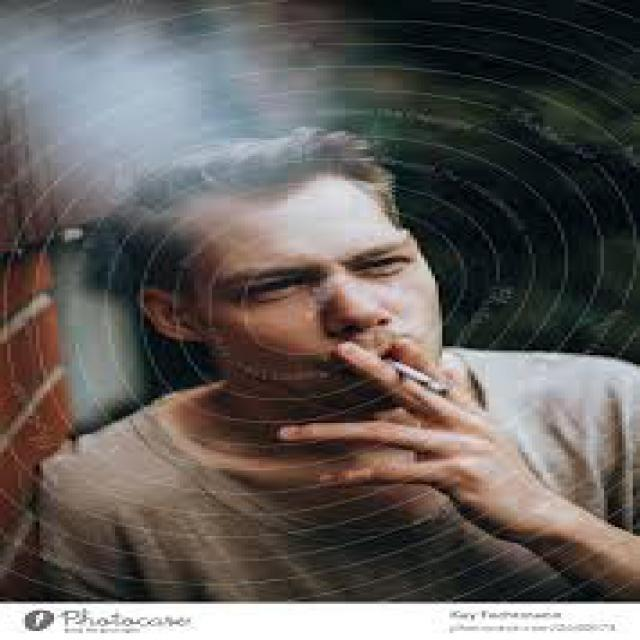smoking: (384, 356, 462, 404)
